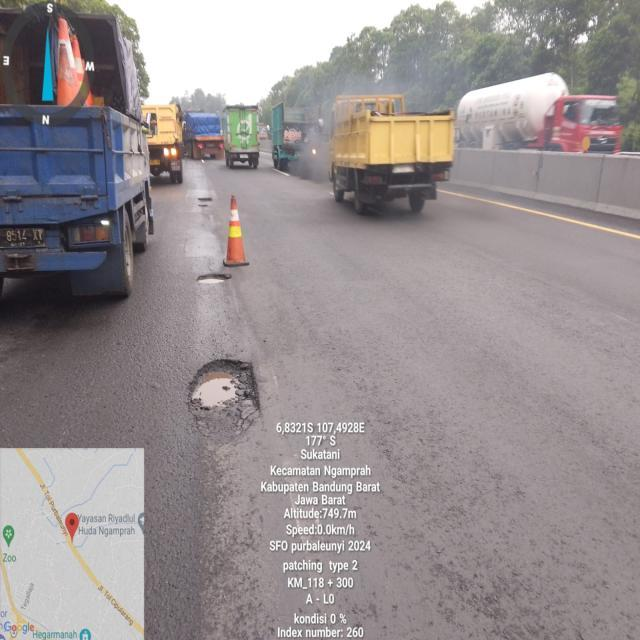Buraco: (181, 356, 266, 447), (193, 272, 234, 286), (196, 196, 214, 202), (196, 203, 210, 209)
